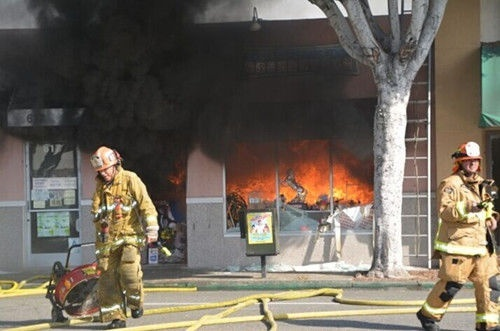fire: (225, 140, 373, 208)
